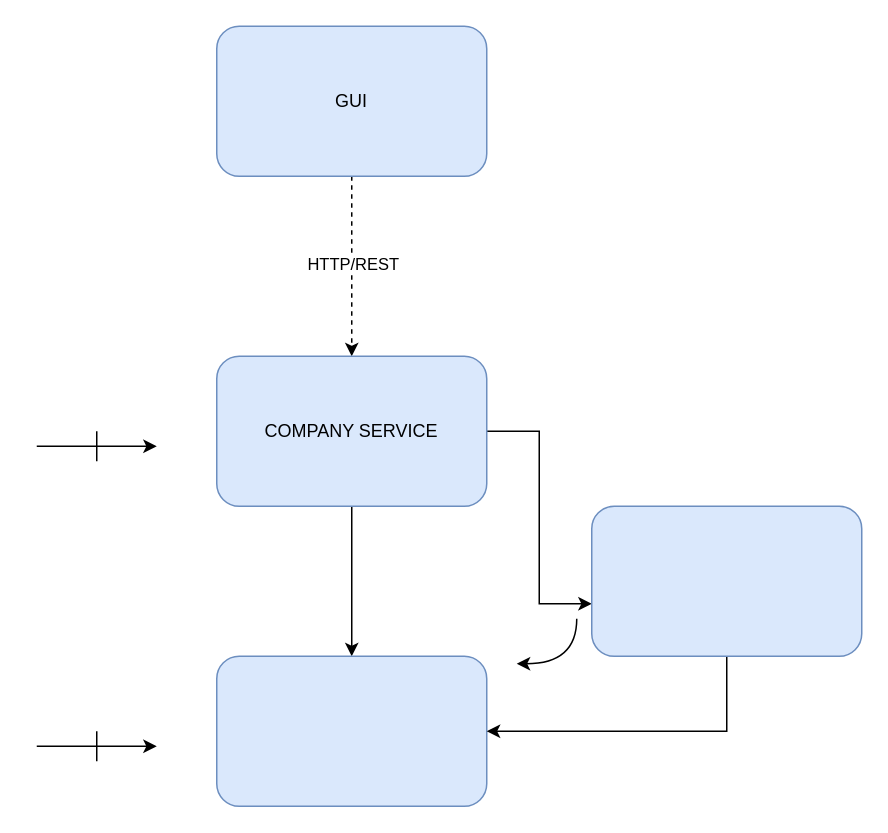
The diagram is 888 pixels wide and 833 high, and some of its shapes have lost their labels. Here are the shapes that lost their labels. From the top down, the centre of each, then its label:
[726,580]: COMPANY FINDER
[351,730]: CSV DATA
